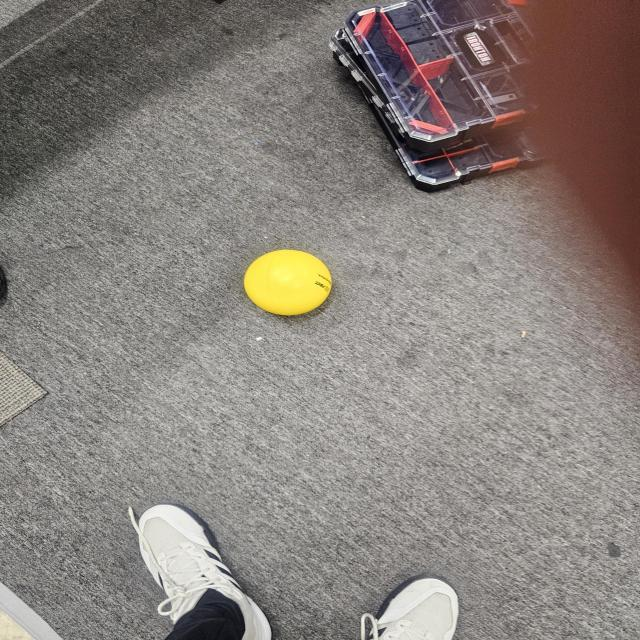Fuel: (241, 248, 335, 321)
